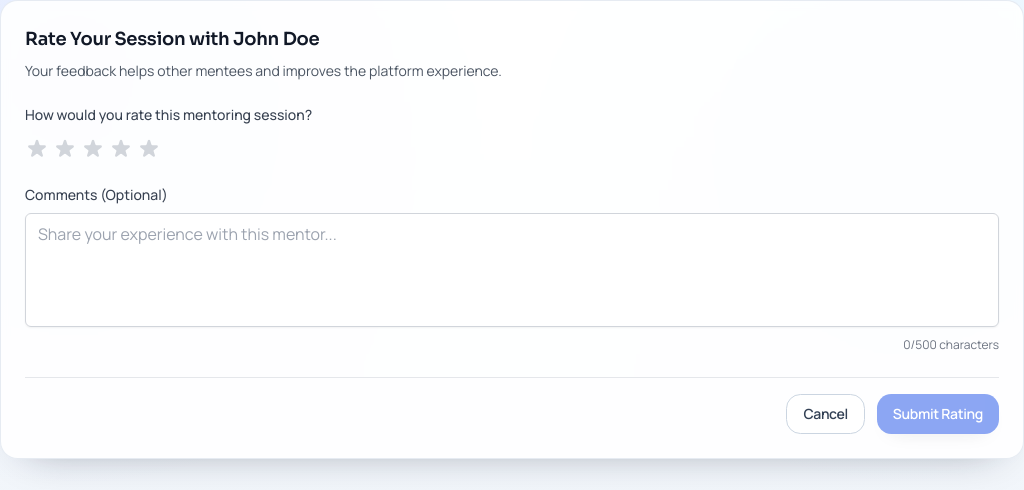
RatingForm › shows character count for comments
The width and height of the screenshot is (1024, 490).
Type "Test comment" into the text box with placeholder "Share your experience with this mentor...".
click(512, 270); type("Test comment")  # box 25,213 -> 999,327
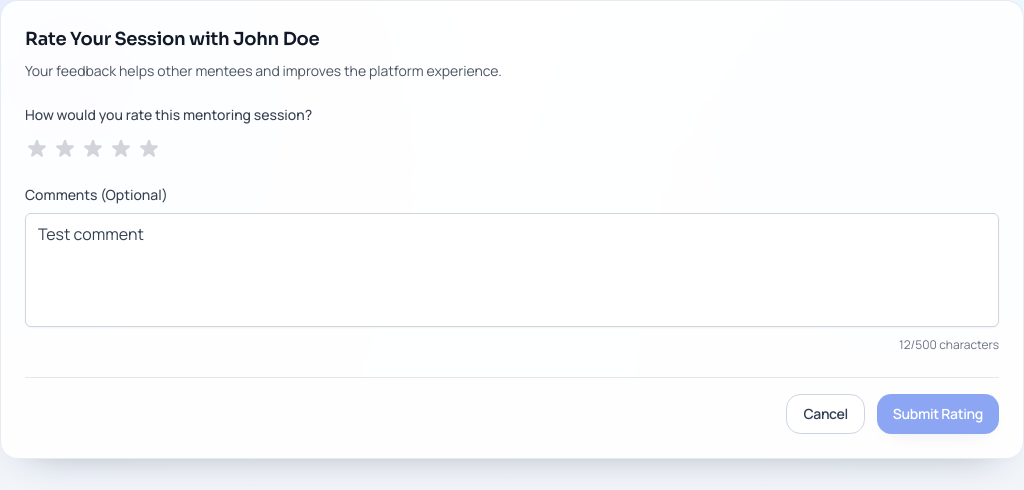
Check: the text "12/500 characters" is shown, box 899,337 -> 999,353
